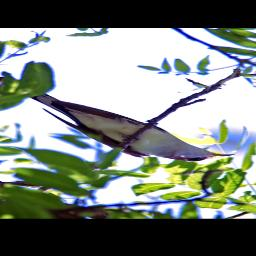Cuckoo: (0, 76, 235, 162)
